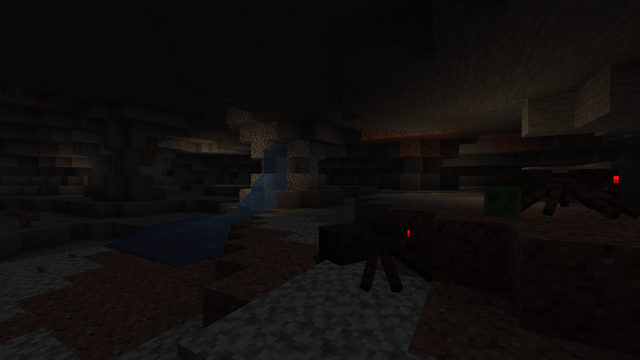araignees: (319, 213, 419, 292), (509, 161, 634, 219)
slimes: (483, 185, 522, 218)
